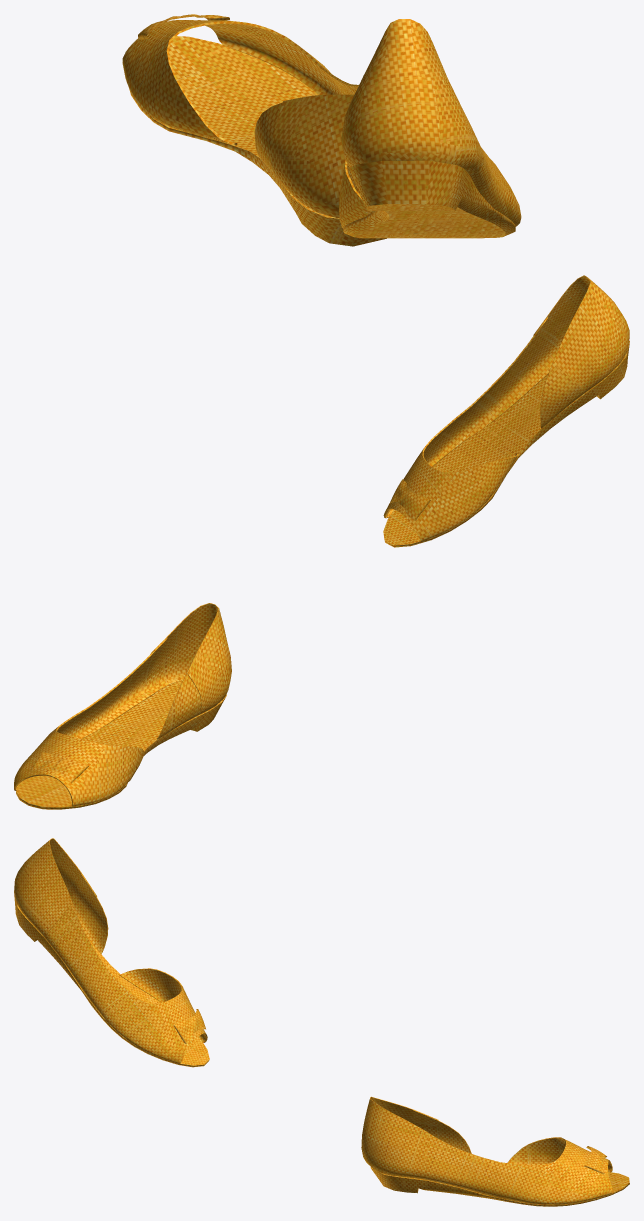
File: gaogenxie03_3.fbx
3 views of the same model, one above another, from view 1: azimuth 30°, elevation 25°; view 2: azimuth 150°, elevation 25°; view 3: azimuth 270°, elevation 25° (orthographic). The views are drawn at different scales.
Parts seen in each view (by area): view 1: gaogenxie03_3; view 2: gaogenxie03_3; view 3: gaogenxie03_3.
Part boxes in pixels (x1,y1,x2,y2): gaogenxie03_3: (122, 14, 521, 246); gaogenxie03_3: (14, 275, 629, 809); gaogenxie03_3: (14, 838, 629, 1206).
Size of the model in its own units: 27.2 by 30.14 by 62.08.
